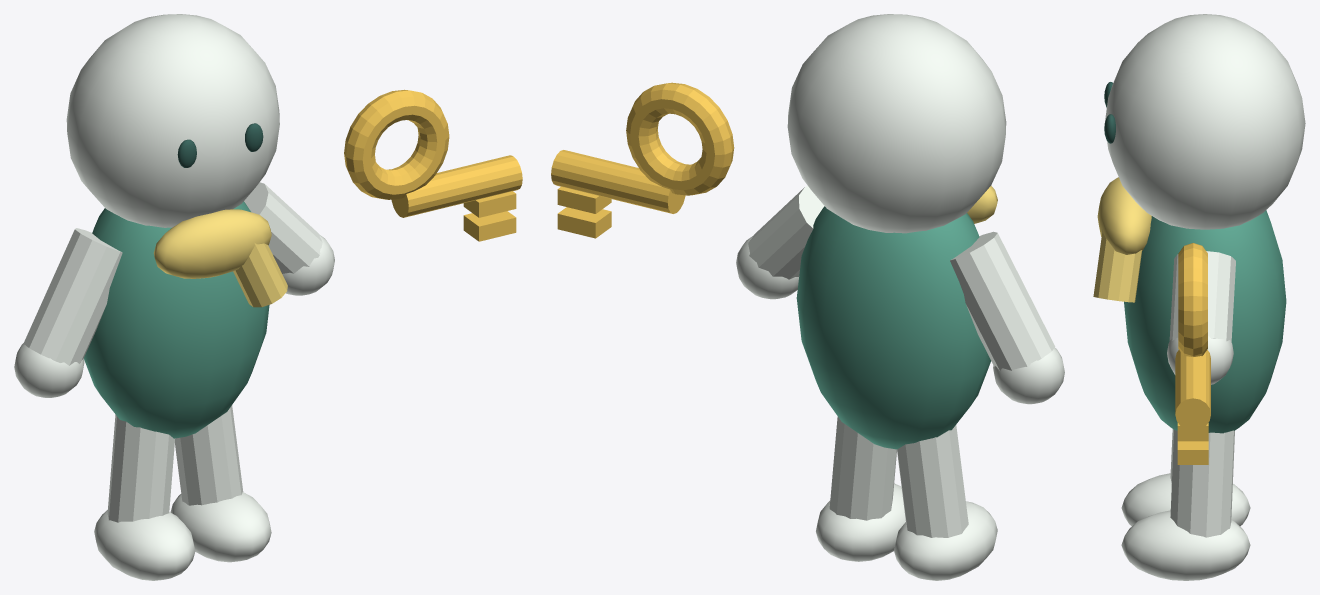
The model's file is soft-explorer.glb.
3 views of the same model, side by side, from view 1: azimuth 30°, elevation 25°; view 2: azimuth 150°, elevation 25°; view 3: azimuth 270°, elevation 25° (orthographic). The views are drawn at different scales.
Visible parts, largest first — view 1: 圓圓頭, 身體, 左手臂, 鑰匙圓環, 圍巾結, 小腿, 圓圓腳, 圓圓腳.001, 小腿.001, 鑰匙柄, 右手臂, 左手 (+4 smaller); view 2: 圓圓頭, 身體, 左手臂, 鑰匙圓環, 小腿, 小腿.001, 圓圓腳, 鑰匙柄, 右手臂, 圓圓腳.001, 左手, 右手 (+3 smaller); view 3: 圓圓頭, 身體, 圓圓腳.001, 小腿.001, 鑰匙圓環, 右手臂, 圍巾結, 鑰匙柄, 圓圓腳, 圍巾垂帶, 右手, 鑰匙齒 (+2 smaller).
Boxes of the visible parts, left/top/right/bottom form: 圓圓頭: left=66, top=14, right=279, bottom=227; 身體: left=83, top=201, right=269, bottom=438; 左手臂: left=23, top=228, right=122, bottom=365; 鑰匙圓環: left=344, top=89, right=449, bottom=199; 圍巾結: left=153, top=209, right=271, bottom=278; 小腿: left=107, top=414, right=175, bottom=522; 圓圓腳: left=94, top=509, right=195, bottom=580; 圓圓腳.001: left=170, top=492, right=271, bottom=562; 小腿.001: left=175, top=405, right=243, bottom=505; 鑰匙柄: left=391, top=155, right=522, bottom=217; 右手臂: left=244, top=182, right=322, bottom=273; 左手: left=14, top=343, right=84, bottom=397; 圓圓頭: left=787, top=14, right=1006, bottom=233; 身體: left=796, top=206, right=990, bottom=449; 左手臂: left=950, top=231, right=1055, bottom=370; 鑰匙圓環: left=626, top=82, right=734, bottom=195; 小腿: left=897, top=425, right=968, bottom=537; 小腿.001: left=829, top=416, right=896, bottom=520; 圓圓腳: left=894, top=501, right=997, bottom=580; 鑰匙柄: left=551, top=150, right=685, bottom=213; 右手臂: left=748, top=186, right=824, bottom=279; 圓圓腳.001: left=816, top=483, right=905, bottom=561; 左手: left=993, top=347, right=1064, bottom=404; 右手: left=736, top=235, right=798, bottom=299; 圓圓頭: left=1105, top=14, right=1305, bottom=229; 身體: left=1124, top=210, right=1286, bottom=433; 圓圓腳.001: left=1121, top=510, right=1250, bottom=580; 小腿.001: left=1170, top=430, right=1234, bottom=537; 鑰匙圓環: left=1178, top=243, right=1207, bottom=356; 右手臂: left=1169, top=251, right=1235, bottom=341; 圍巾結: left=1097, top=177, right=1151, bottom=254; 鑰匙柄: left=1175, top=350, right=1210, bottom=430; 圓圓腳: left=1121, top=473, right=1250, bottom=526; 圍巾垂帶: left=1093, top=229, right=1141, bottom=302; 右手: left=1167, top=336, right=1233, bottom=384; 鑰匙齒: left=1177, top=441, right=1208, bottom=464.
Bounding box in the file's own units: 2.38 × 2.46 × 0.8874.
